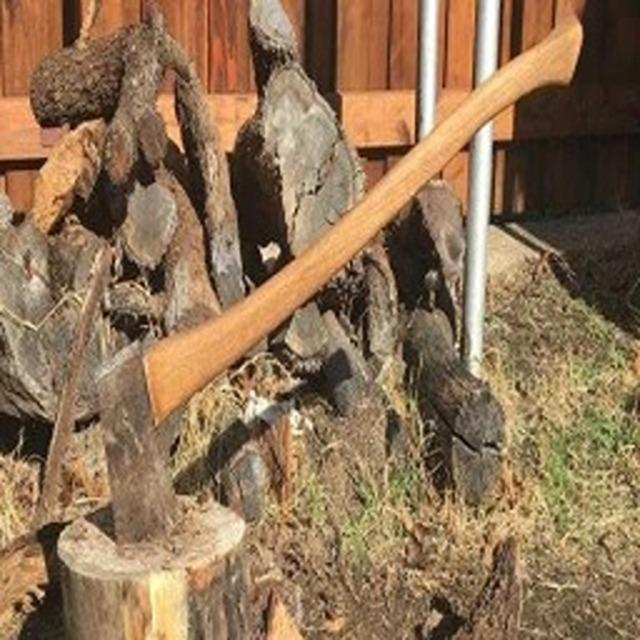ax: (82, 9, 590, 574)
